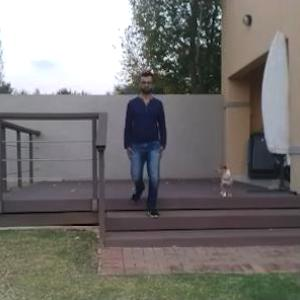follow: (122, 68, 162, 228)
